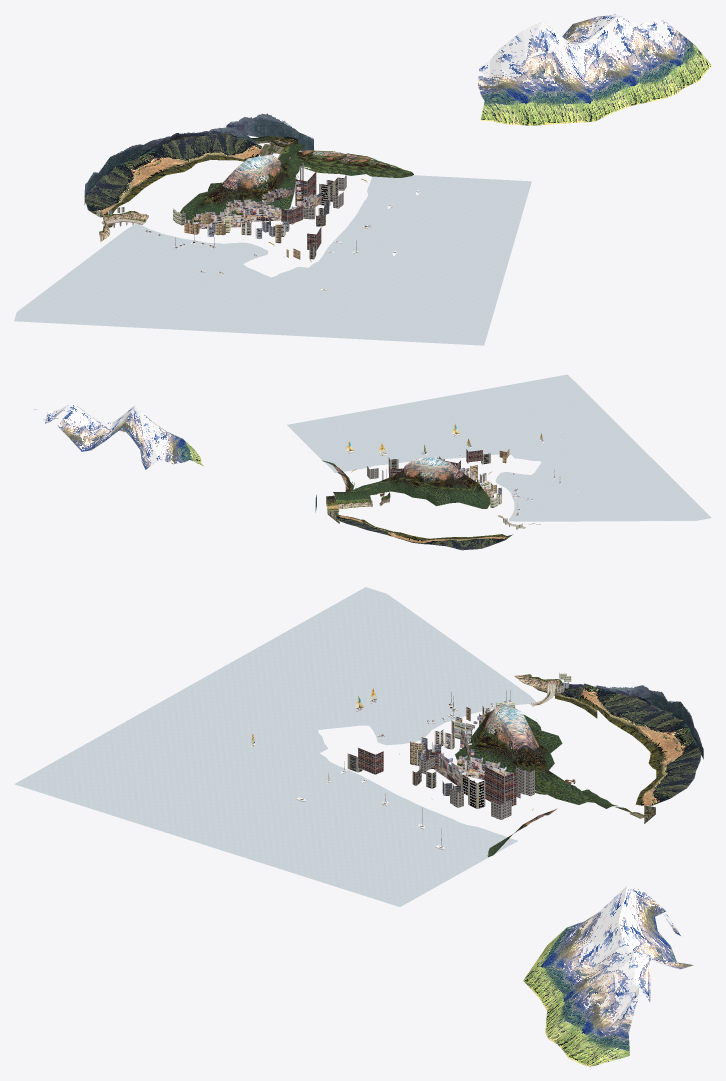
File: track-EU_C3_V2_env.glb
The picture shows the model from 3 angles, top to bottom: view 1: azimuth 30°, elevation 25°; view 2: azimuth 150°, elevation 25°; view 3: azimuth 270°, elevation 25°; orthographic projection. The views are drawn at different scales.
Parts seen in each view (by area): view 1: EU_C3_V2_env; view 2: EU_C3_V2_env; view 3: EU_C3_V2_env.
Boxes of the visible parts, bbox=[...] form: EU_C3_V2_env: bbox=[14, 14, 711, 345]; EU_C3_V2_env: bbox=[33, 374, 711, 550]; EU_C3_V2_env: bbox=[14, 587, 703, 1066].
Bounding box in the file's own units: 6207 × 692 × 3853.
Materials: 20 (20 with a texture image).
